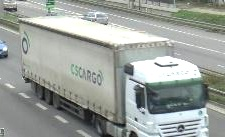car: (83, 12, 109, 25), (0, 40, 9, 59)
